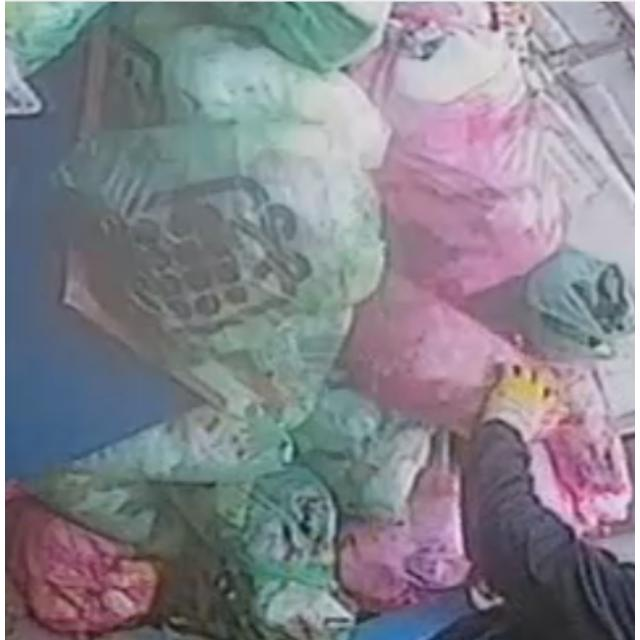general_trashbag: (64, 76, 386, 371), (81, 25, 312, 133), (468, 250, 634, 358)
other_trashbag: (358, 4, 614, 298), (349, 272, 516, 431), (6, 484, 159, 633), (342, 465, 471, 611)
